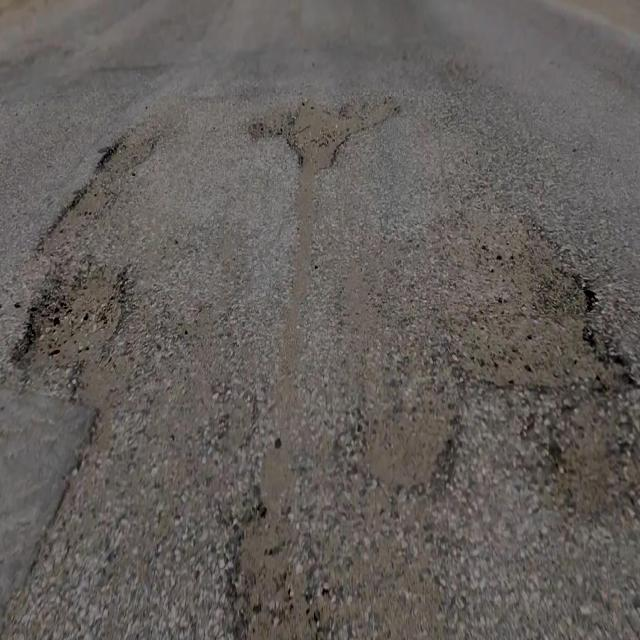Potholes: (453, 219, 605, 407), (342, 395, 458, 497), (15, 264, 127, 368), (281, 92, 355, 179), (96, 141, 157, 179)
